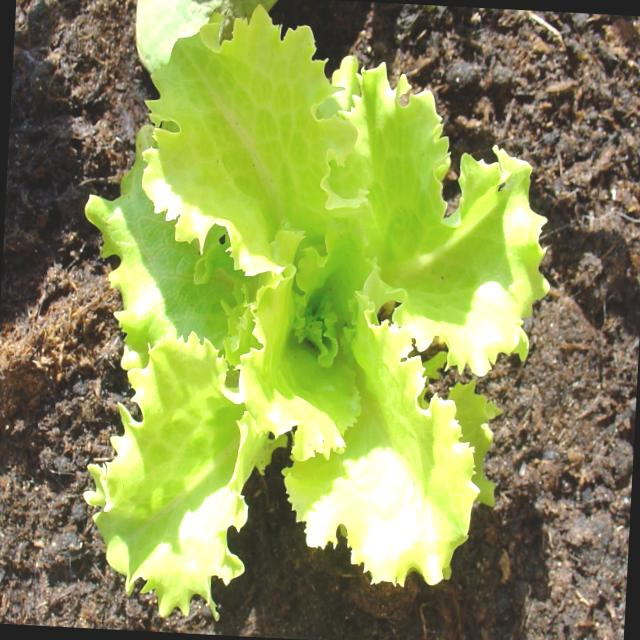inmadura: (86, 6, 548, 618)
